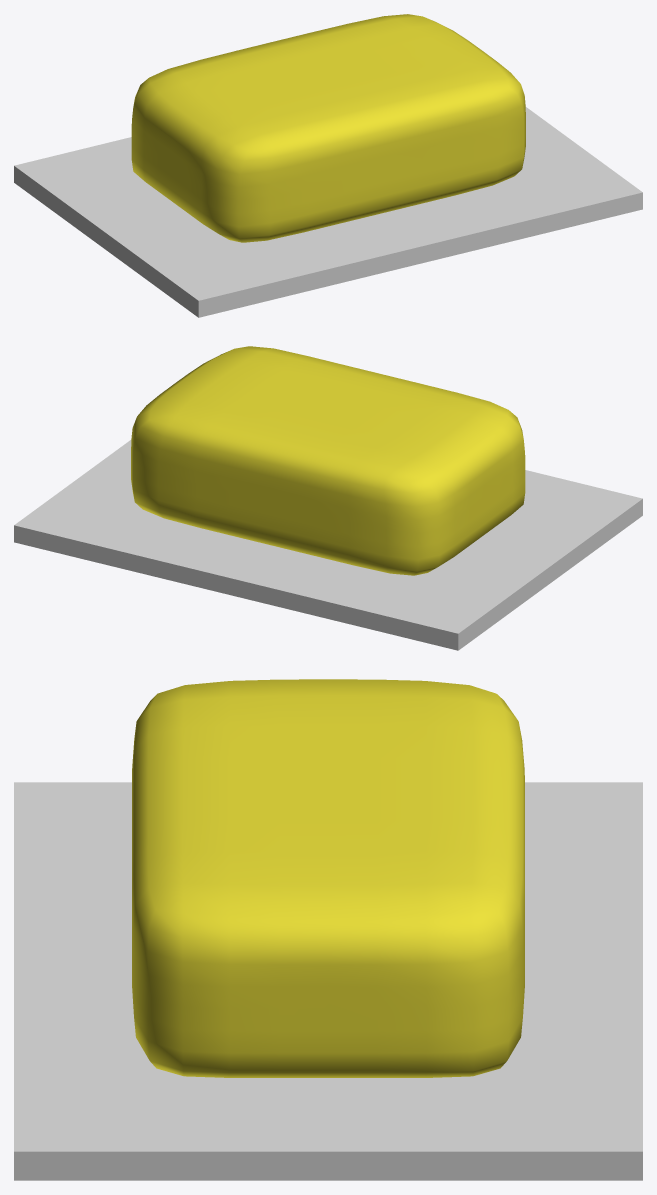
Rendered from manteiga.fbx.
3 renders of one model, top to bottom at view 1: azimuth 30°, elevation 25°; view 2: azimuth 150°, elevation 25°; view 3: azimuth 270°, elevation 25°, orthographic. The views are drawn at different scales.
Visible parts, largest first — view 1: Cube, Cube.001; view 2: Cube, Cube.001; view 3: Cube, Cube.001.
Part boxes in pixels (x1,y1,x2,y2): Cube: (131, 14, 525, 242); Cube.001: (14, 107, 642, 317); Cube: (131, 346, 525, 575); Cube.001: (14, 440, 642, 650); Cube: (132, 679, 524, 1077); Cube.001: (14, 782, 642, 1180).
Size of the model in its own units: 443 by 115 by 319.
